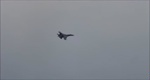maybay_muctieu: (56, 30, 74, 42)
